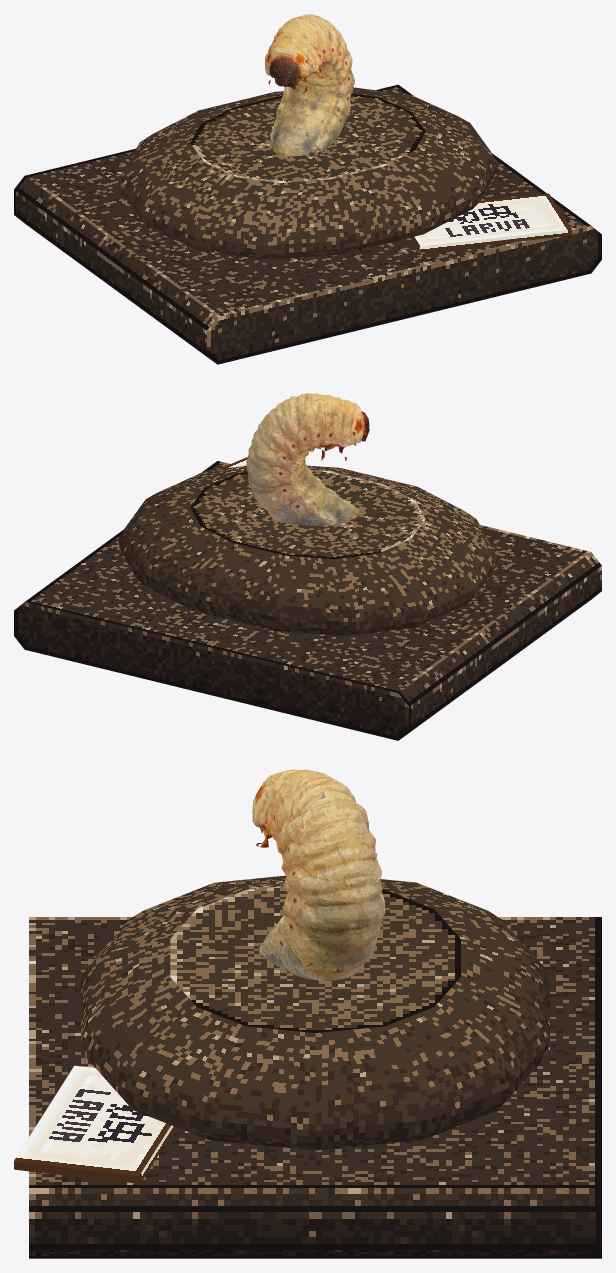
File: larva.glb
The picture shows the model from 3 angles, top to bottom: view 1: azimuth 30°, elevation 25°; view 2: azimuth 150°, elevation 25°; view 3: azimuth 270°, elevation 25°; orthographic projection. The views are drawn at different scales.
Visible parts, largest first — view 1: base, mould, model_grub, label; view 2: base, mould, model_grub; view 3: mould, base, model_grub, label.
Boxes of the visible parts, <box> form: base: <box>14,84,601,364</box>; mould: <box>118,87,497,259</box>; model_grub: <box>264,14,354,156</box>; label: <box>410,193,571,252</box>; base: <box>14,461,601,740</box>; mould: <box>118,465,497,635</box>; model_grub: <box>246,393,369,525</box>; mould: <box>81,875,549,1150</box>; base: <box>29,917,601,1258</box>; model_grub: <box>252,769,385,980</box>; label: <box>14,1065,175,1183</box>.
Bounding box in the file's own units: 26 × 14.5 × 22.58.
Materials: 2 (2 with a texture image).
